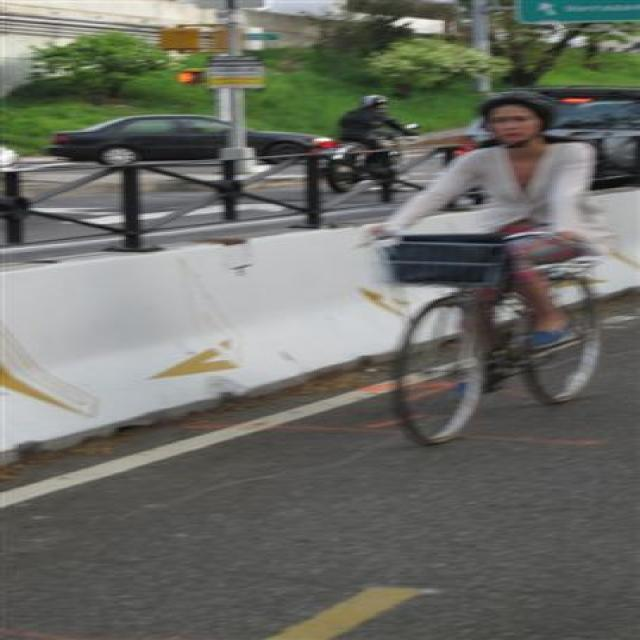motor: (314, 121, 418, 209)
